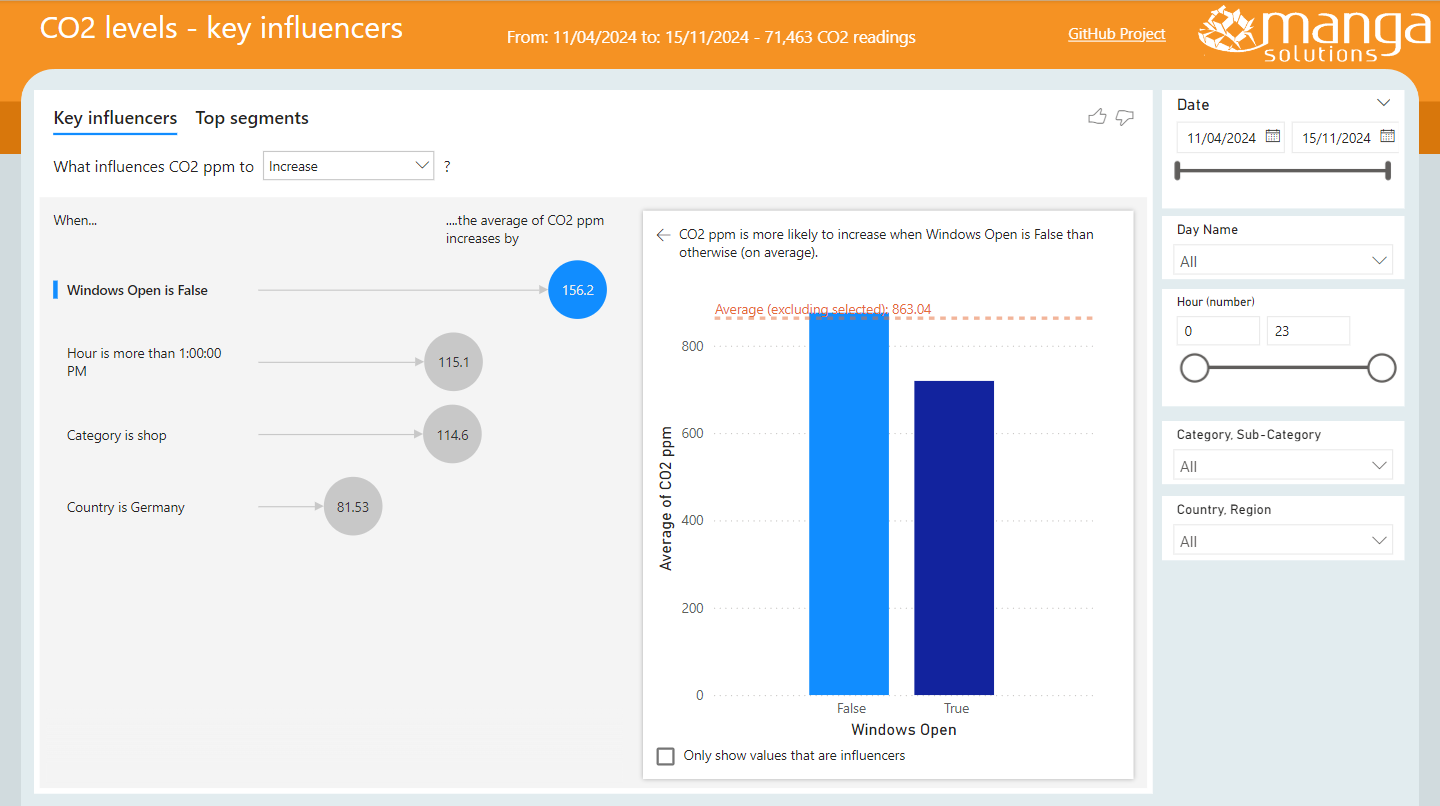

What the dashboard file says about the page in this screenshot:
{"tool":"powerbi","page":{"name":"Key Influencers","canvas":[1280,720],"ordinal":7},"visuals":[{"type":"keyDriversVisual","title":"CO2 levels by Time","fields":{"ExplainBy":["Min(Aranet Data.Date)","Max(Aranet Data.Date)","Aranet Data.Day Name","Aranet Data.Month Name","Aranet Data.Monitor ID","Aranet Data.Hour","Aranet Data.Date.Variation.Date Hierarchy.Year","Aranet Data.Date.Variation.Date Hierarchy.Quarter","Aranet Data.Date.Variation.Date Hierarchy.Month","Aranet Data.Date.Variation.Date Hierarchy.Day","Aranet Data.Date","CO2 levels.Category"],"Target":["Aranet Data.# Median of CO2 ppm"]},"box":[32,80,992,624],"z":0},{"type":"slicer","fields":{"Values":["CO2_readings.Day Name"]},"box":[1032.1,191.5,215.5,55.9],"z":2000},{"type":"slicer","fields":{"Values":["CO2_readings.date"]},"box":[1032.1,79.8,215.5,104.6],"z":3000},{"type":"slicer","fields":{"Values":["CO2_readings.Hour (number)1"]},"box":[1032.1,256.3,215.5,103.7],"z":5000},{"type":"actionButton","box":[1056,0,224,64],"z":6000},{"type":"textbox","box":[32,0,720,48],"z":7000},{"type":"htmlContent443BE3AD55E043BF878BED274D3A6865","fields":{"content":["Aranet Data.@ Date Range"]},"box":[408,16,464,32],"z":8000},{"type":"slicer","fields":{"Values":["CO2 levels.Category","CO2 levels.Sub-Category"]},"box":[1032.1,373.3,215.5,55.9],"z":9000},{"type":"slicer","fields":{"Values":["CO2 levels.Country","CO2 levels.Region"]},"box":[1032.1,439.8,215.5,56.7],"z":10000},{"type":"textbox","box":[920,16,120,32],"z":11000}]}

Visuals, with their boxes in screenshot pixels (x1, y1, x2, y2), scaled from the page's 1280x720 canvas onto the 1440x806 screenshot:
"CO2 levels by Time" keyDriversVisual: locate(36, 90, 1152, 788)
slicer - CO2_readings.Day Name: locate(1161, 214, 1404, 277)
slicer - CO2_readings.date: locate(1161, 89, 1404, 206)
slicer - CO2_readings.Hour (number)1: locate(1161, 287, 1404, 403)
actionButton: locate(1188, 0, 1439, 72)
textbox: locate(36, 0, 846, 54)
htmlContent443BE3AD55E043BF878BED274D3A6865 - Aranet Data.@ Date Range: locate(459, 18, 981, 54)
slicer - CO2 levels.Category x CO2 levels.Sub-Category: locate(1161, 418, 1404, 480)
slicer - CO2 levels.Country x CO2 levels.Region: locate(1161, 492, 1404, 556)
textbox: locate(1035, 18, 1170, 54)
